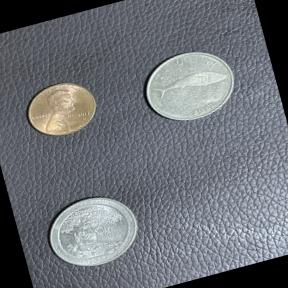coin: (132, 36, 248, 136), (35, 183, 151, 281), (17, 72, 108, 148)
